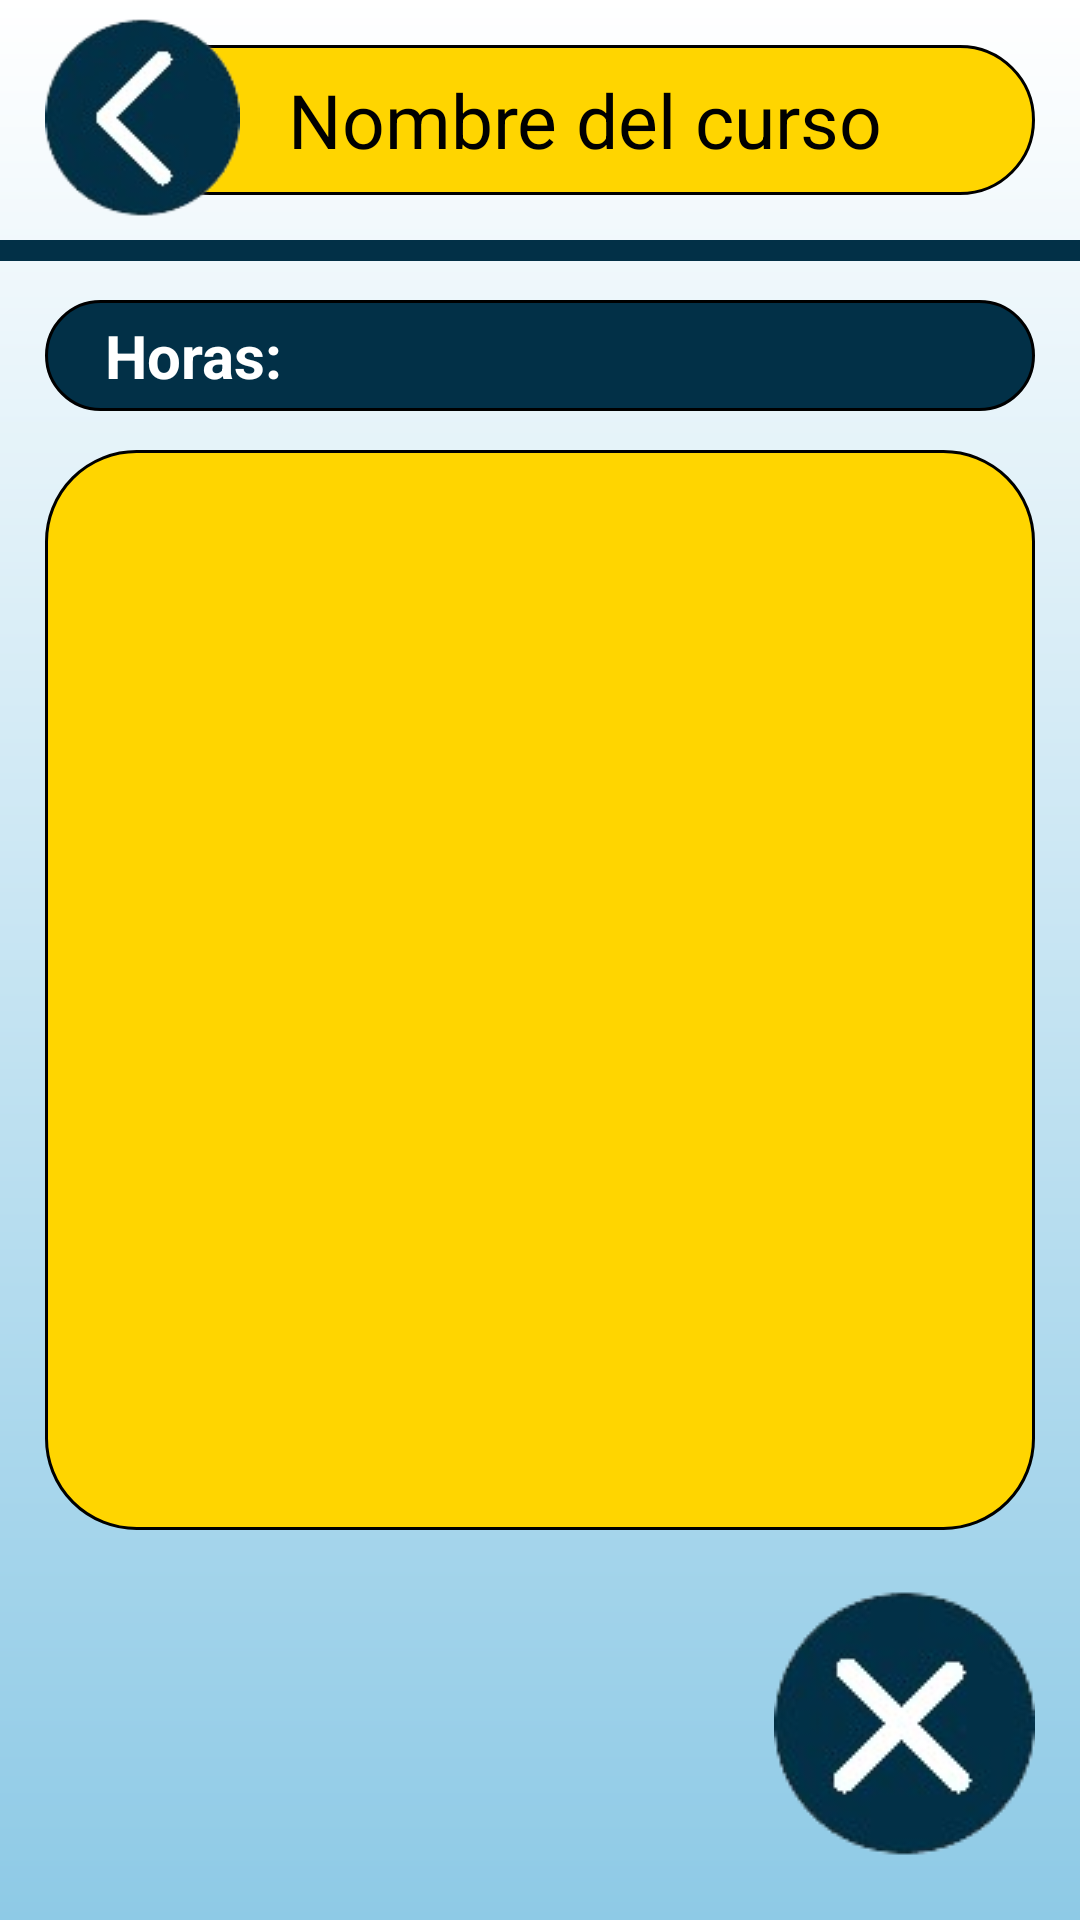

Screen size 1080 × 1920. Icon name, then its box in pixels as (x1, y1, x2, y2):
cancel: (774, 1592, 1035, 1855)
